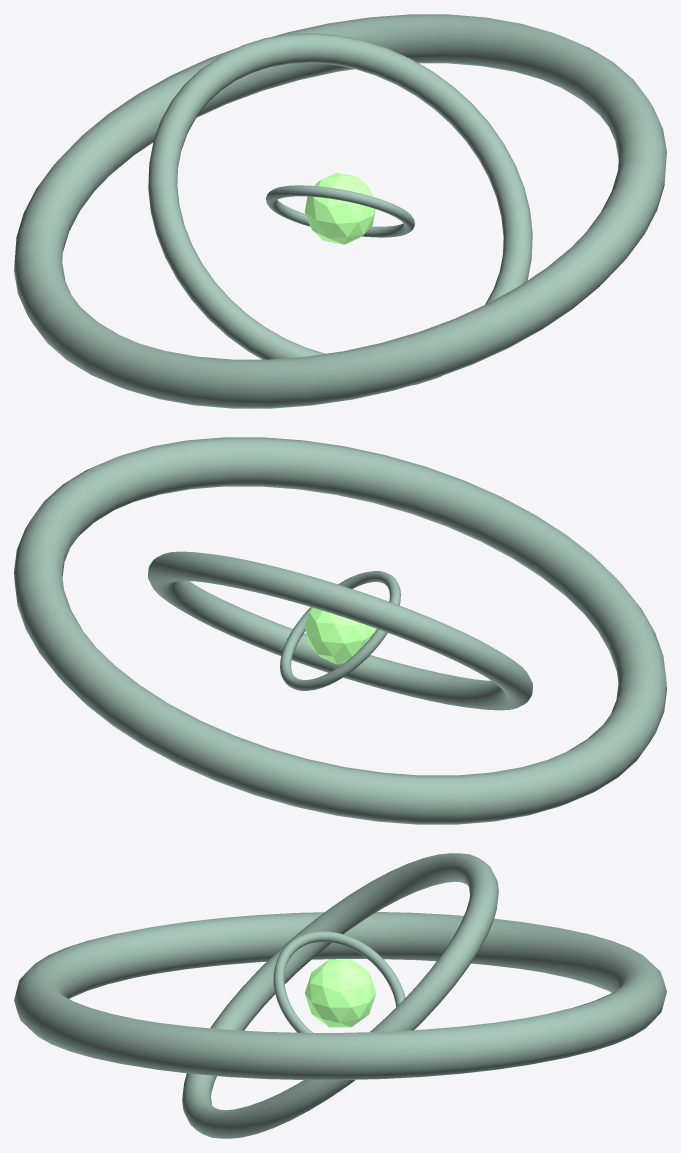
File: Tech5.fbx
The picture shows the model from 3 angles, top to bottom: view 1: azimuth 30°, elevation 25°; view 2: azimuth 150°, elevation 25°; view 3: azimuth 270°, elevation 25°; orthographic projection. The views are drawn at different scales.
Visible parts, largest first — view 1: Tech5_Ring3, Tech5_Ring2, Tech5, Tech5_Ring1; view 2: Tech5_Ring3, Tech5_Ring2, Tech5_Ring1, Tech5; view 3: Tech5_Ring3, Tech5_Ring2, Tech5, Tech5_Ring1.
Part boxes in pixels (<box>): Tech5_Ring3: <box>14,14,666,408</box>; Tech5_Ring2: <box>148,33,532,385</box>; Tech5: <box>305,172,375,244</box>; Tech5_Ring1: <box>266,185,414,237</box>; Tech5_Ring3: <box>14,437,666,824</box>; Tech5_Ring2: <box>148,551,532,710</box>; Tech5_Ring1: <box>280,571,400,690</box>; Tech5: <box>304,607,375,664</box>; Tech5_Ring3: <box>14,912,666,1079</box>; Tech5_Ring2: <box>182,853,498,1138</box>; Tech5: <box>304,959,376,1027</box>; Tech5_Ring1: <box>273,931,405,1032</box>.
Size of the model in its own units: 342 by 138 by 352.
